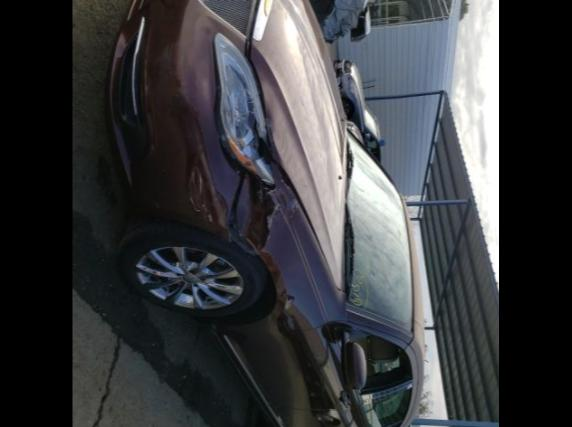Broken part: (218, 148, 348, 334), (214, 32, 274, 184), (212, 40, 244, 174)
Dent: (236, 170, 296, 252), (184, 146, 228, 234), (266, 106, 278, 160)
